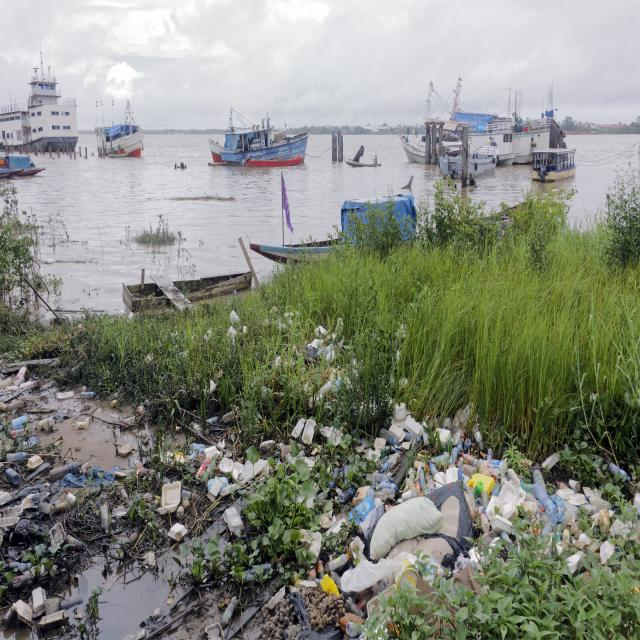plastic: (504, 473, 588, 568)
